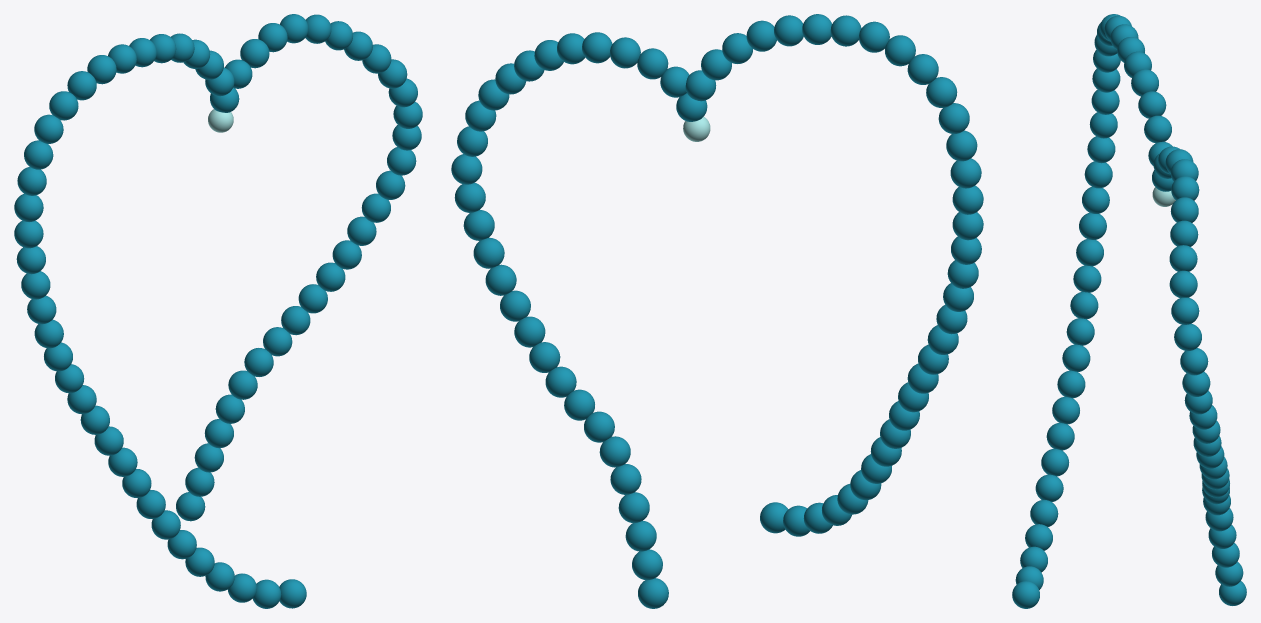
Rendered from Kin no Kokoro.fbx.
3 views of the same model, side by side, from view 1: azimuth 30°, elevation 25°; view 2: azimuth 150°, elevation 25°; view 3: azimuth 270°, elevation 25° (orthographic). The views are drawn at different scales.
Parts seen in each view (by area): view 1: Sphere026, Sphere043, Sphere049, Sphere025, Sphere027, Sphere044, Sphere047, Sphere048, Sphere045, Sphere050, Sphere024, Sphere028 (+47 smaller); view 2: Sphere043, Sphere048, Sphere064, Sphere051, Sphere026, Sphere063, Sphere044, Sphere046, Sphere050, Sphere042, Sphere027, Sphere040 (+28 smaller); view 3: Sphere003, Sphere057, Sphere013, Sphere056, Sphere012, Sphere015, Sphere016, Sphere010, Sphere035, Sphere014, Sphere011, Sphere009 (+40 smaller).
Boxes of the visible parts, left/top/right/bottom form: Sphere026: left=34, top=114, right=63, bottom=143; Sphere043: left=228, top=370, right=257, bottom=399; Sphere049: left=332, top=240, right=361, bottom=269; Sphere025: left=24, top=140, right=53, bottom=169; Sphere027: left=49, top=91, right=78, bottom=120; Sphere044: left=244, top=348, right=273, bottom=376; Sphere047: left=298, top=284, right=327, bottom=313; Sphere048: left=316, top=262, right=345, bottom=291; Sphere045: left=263, top=327, right=292, bottom=356; Sphere050: left=347, top=216, right=376, bottom=245; Sphere024: left=17, top=167, right=46, bottom=195; Sphere028: left=67, top=71, right=96, bottom=100; Sphere043: left=599, top=436, right=630, bottom=467; Sphere048: left=514, top=316, right=545, bottom=347; Sphere064: left=637, top=48, right=668, bottom=79; Sphere051: left=473, top=237, right=504, bottom=268; Sphere026: left=926, top=77, right=957, bottom=107; Sphere063: left=609, top=37, right=640, bottom=68; Sphere044: left=584, top=411, right=614, bottom=442; Sphere046: left=545, top=366, right=576, bottom=397; Sphere050: left=485, top=264, right=516, bottom=295; Sphere042: left=610, top=464, right=641, bottom=494; Sphere027: left=907, top=54, right=938, bottom=84; Sphere040: left=625, top=520, right=656, bottom=551; Sphere003: left=1012, top=581, right=1039, bottom=608; Sphere057: left=1169, top=270, right=1197, bottom=297; Sphere013: left=1062, top=344, right=1090, bottom=371; Sphere056: left=1171, top=297, right=1199, bottom=324; Sphere012: left=1057, top=370, right=1085, bottom=398; Sphere015: left=1070, top=292, right=1098, bottom=319; Sphere016: left=1073, top=265, right=1101, bottom=292; Sphere010: left=1046, top=422, right=1074, bottom=450; Sphere035: left=1144, top=115, right=1171, bottom=143; Sphere014: left=1066, top=318, right=1094, bottom=345; Sphere011: left=1052, top=396, right=1079, bottom=424; Sphere009: left=1041, top=448, right=1069, bottom=476.
Size of the model in its own units: 464 by 543 by 219.
